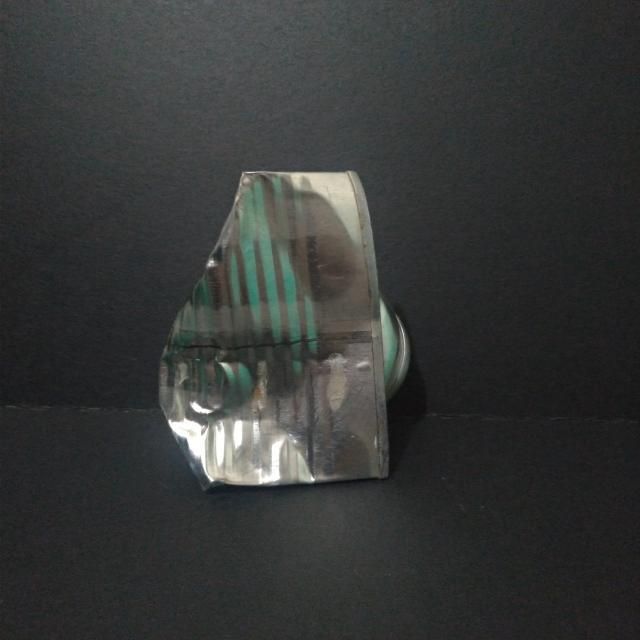metal-can: (153, 167, 417, 490)
